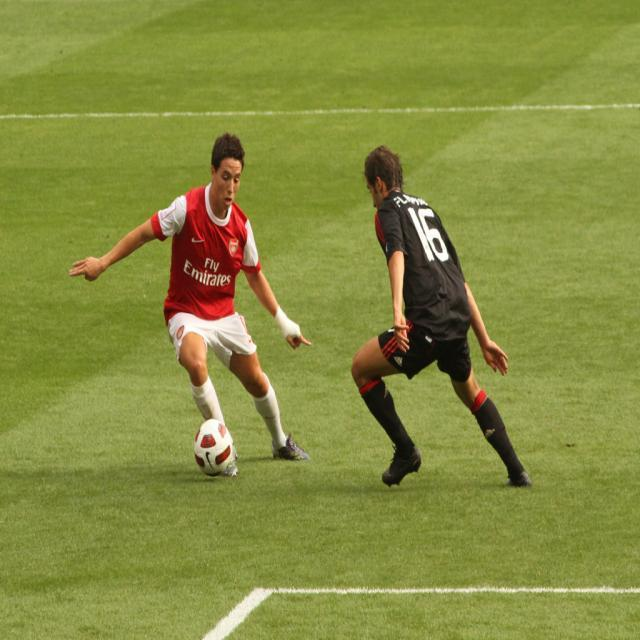football: (179, 416, 254, 480)
